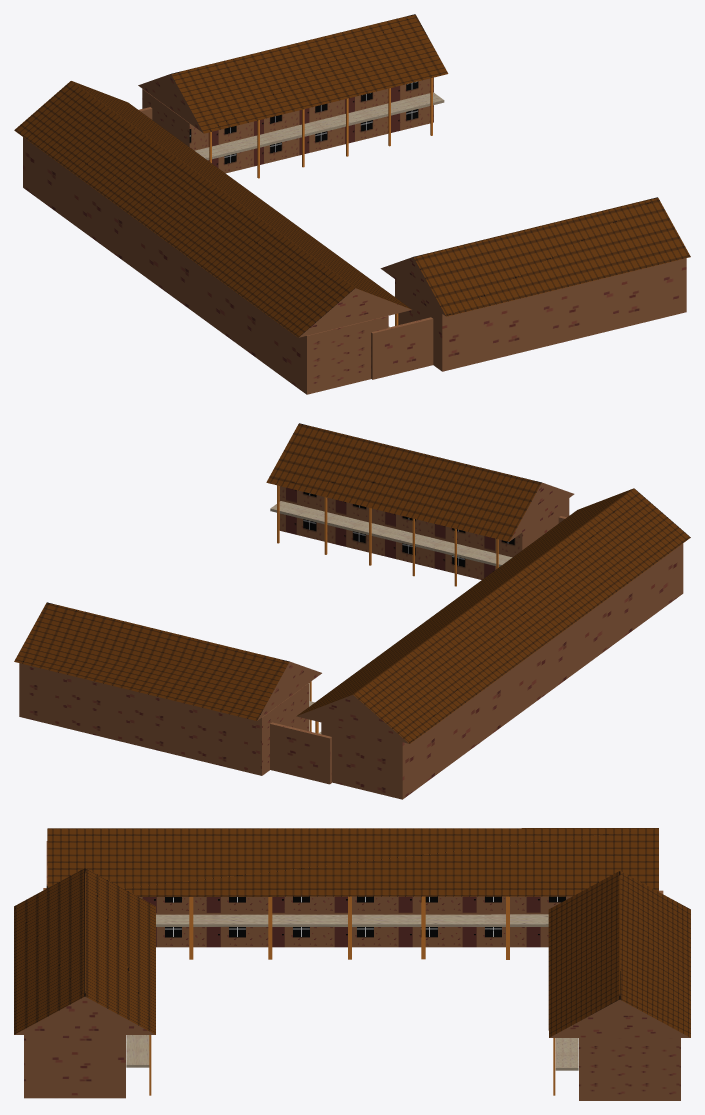
Rendered from NewLawlorPrinty.fbx.
The picture shows the model from 3 angles, top to bottom: view 1: azimuth 30°, elevation 25°; view 2: azimuth 150°, elevation 25°; view 3: azimuth 270°, elevation 25°; orthographic projection. The views are drawn at different scales.
Visible parts, largest first — view 1: LawlorPrinty; view 2: LawlorPrinty; view 3: LawlorPrinty.
Part boxes in pixels (box(x1,y1,x2,y2)): LawlorPrinty: box(14, 14, 690, 394); LawlorPrinty: box(14, 423, 690, 799); LawlorPrinty: box(14, 828, 690, 1100).
Size of the model in its own units: 4159 by 995 by 5900.
